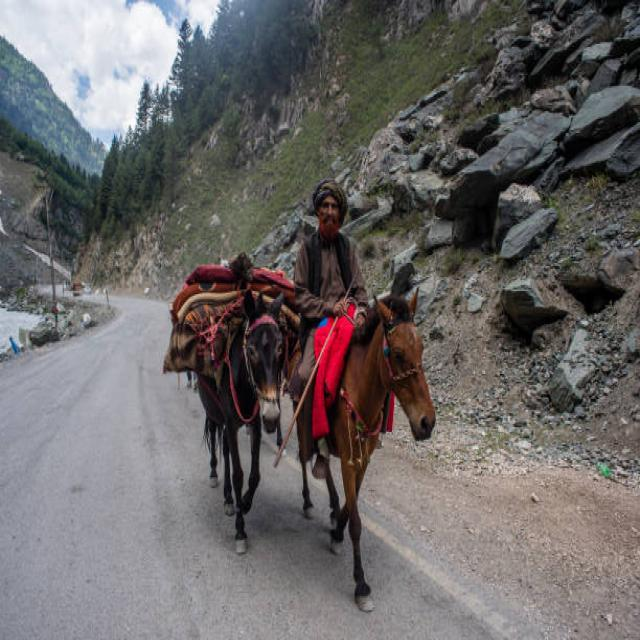civilian: (289, 182, 365, 440)
